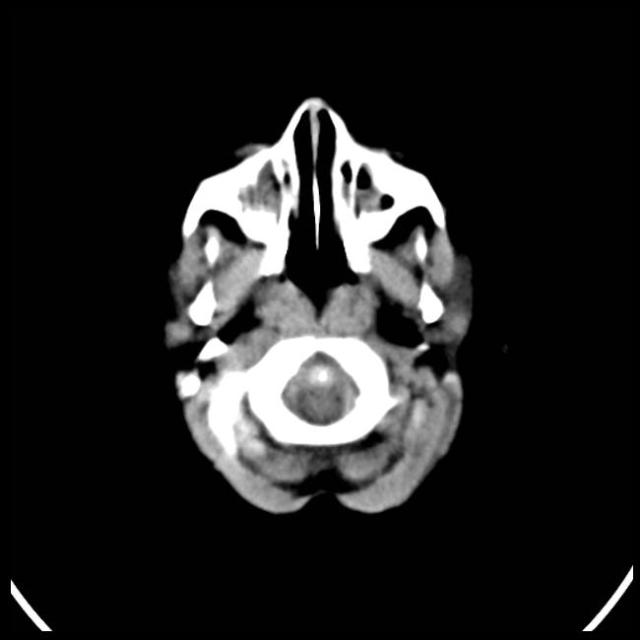lesion: (157, 91, 480, 521)
